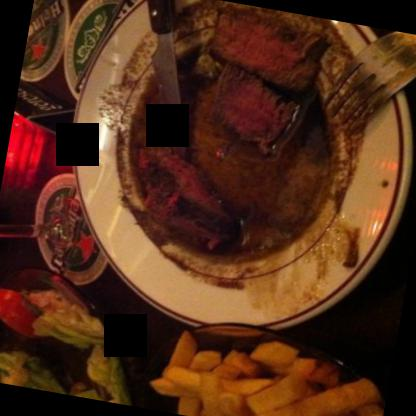beef: (126, 148, 253, 245), (197, 0, 328, 82), (202, 62, 317, 150)
